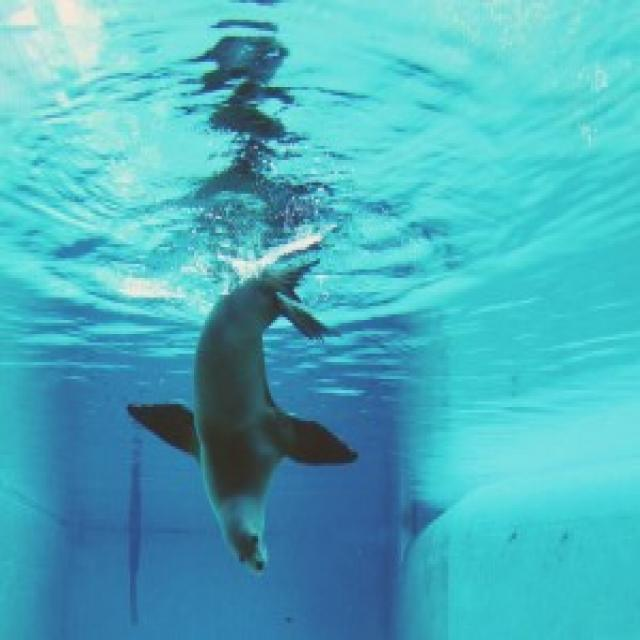Seal: (143, 194, 344, 598)
